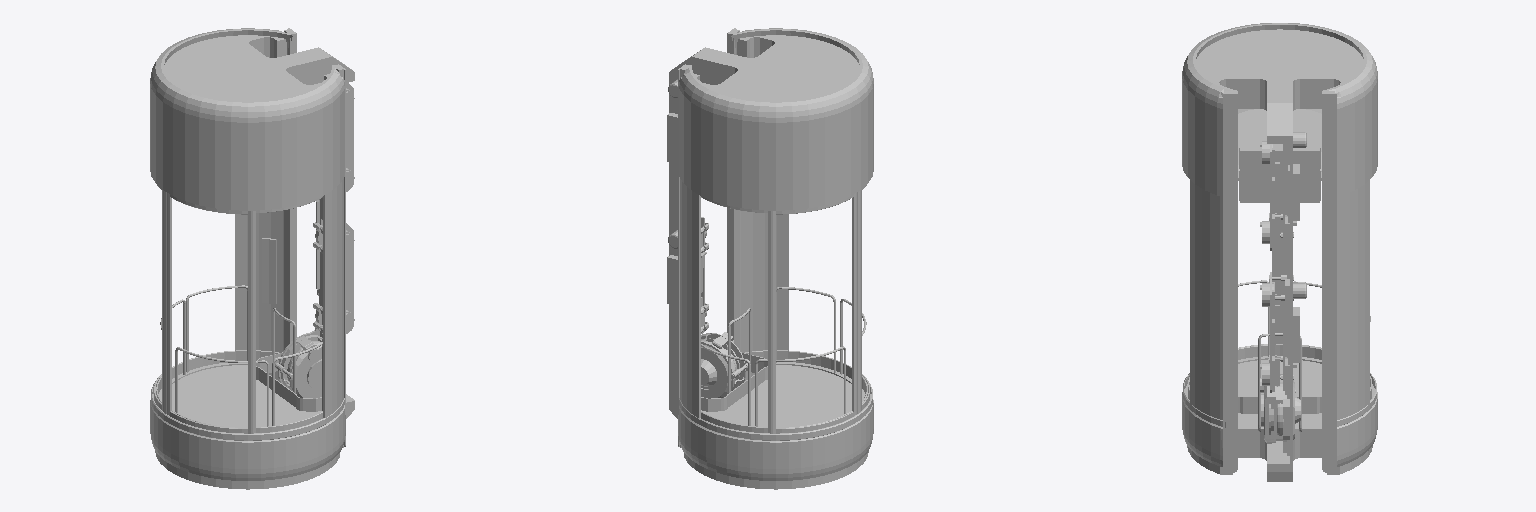
The model's file is elevator.obj.
3 renders of one model, left to right at view 1: azimuth 30°, elevation 25°; view 2: azimuth 150°, elevation 25°; view 3: azimuth 270°, elevation 25°, orthographic.
Parts seen in each view (by area): view 1: elevator_b; view 2: elevator_b; view 3: elevator_b.
Boxes of the visible parts, box(x1,y1,x2,y2) form: elevator_b: box(150, 28, 354, 489); elevator_b: box(667, 28, 873, 489); elevator_b: box(1182, 23, 1377, 481).
Size of the model in its own units: 99.33 by 196 by 90.94.